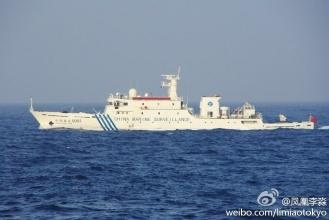warship: (19, 75, 323, 130)
